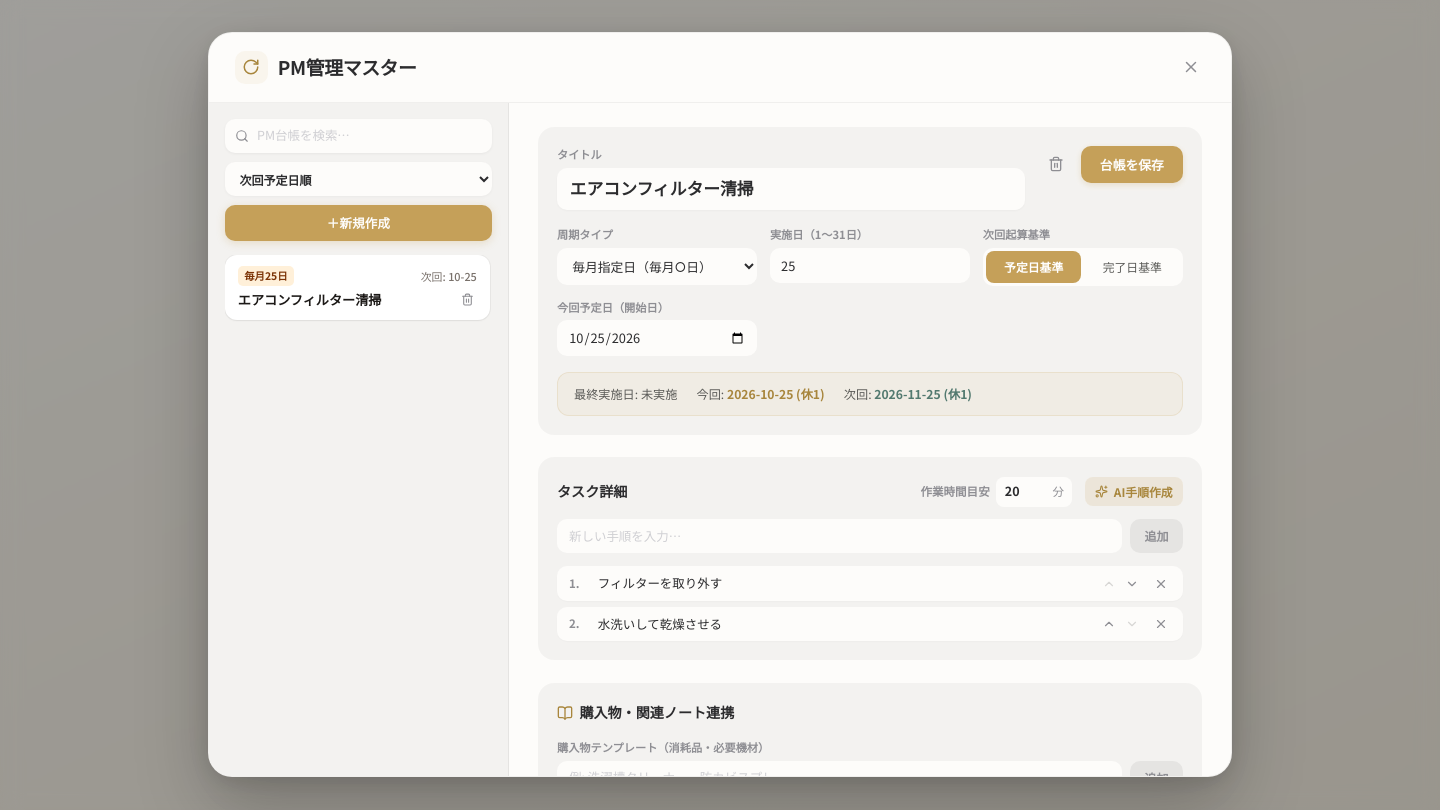
Test: PMMasterModal (PM管理台帳 2ペインUI) › 3b. カードの削除ボタンをクリックすると独自削除確認ダイアログが表示されること
カードの削除ボタンをクリック
Step 1. Click the button with test id "pm-card-delete-btn-pm-master-1" → [467, 300], box [457, 290, 477, 310]
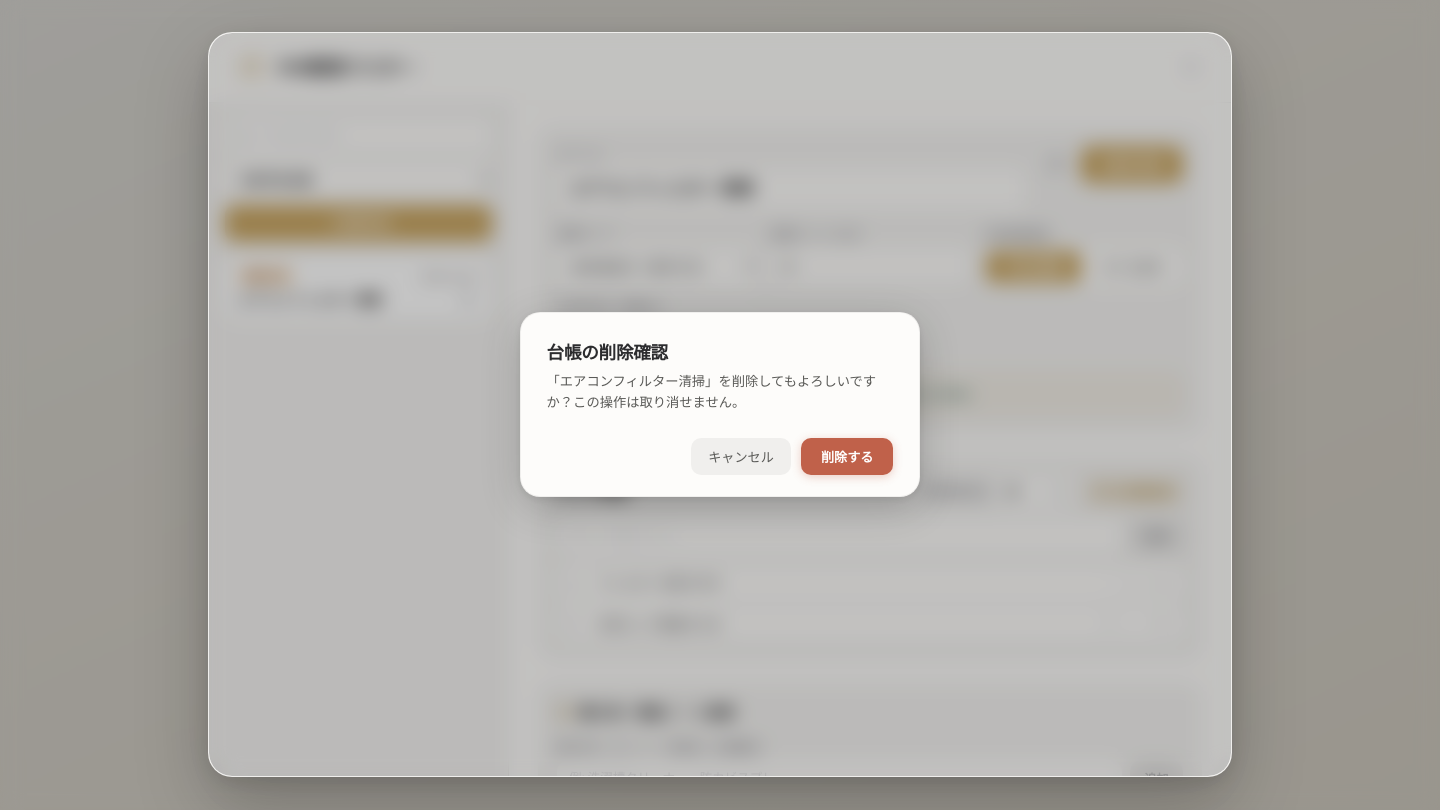
expect the heading "台帳の削除確認" is shown: met, box [547, 339, 668, 364]
キャンセルボタンをクリックするとダイアログが閉じること
Step 2. Click the button with test id "pm-cancel-delete-btn" → [741, 457], box [691, 438, 791, 476]
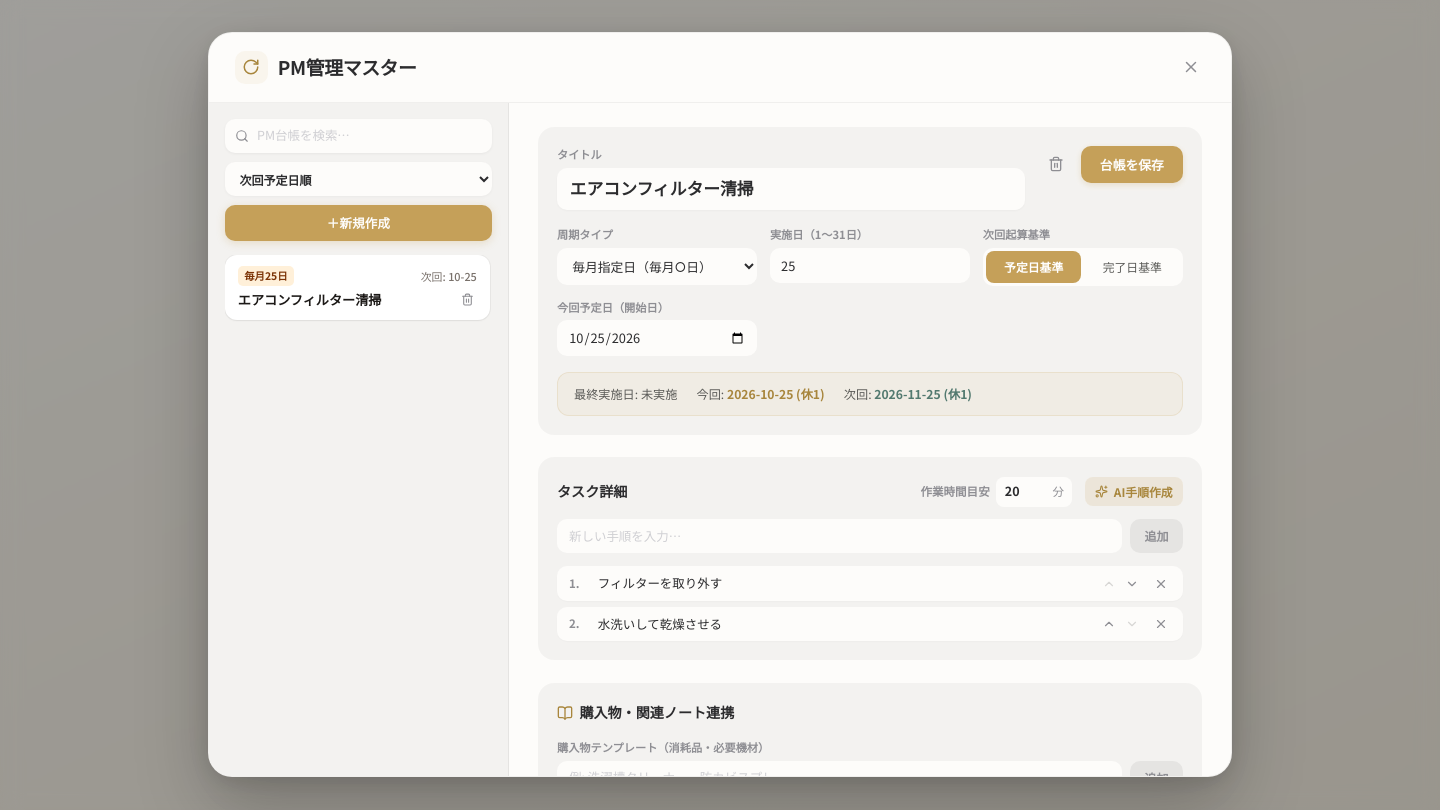
expect the heading "台帳の削除確認" is gone: met
